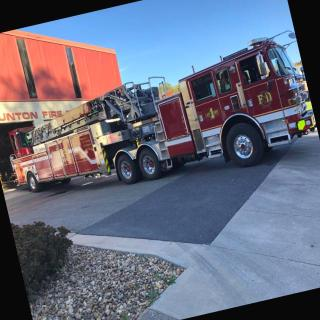Fire_truck: (0, 28, 320, 218)
